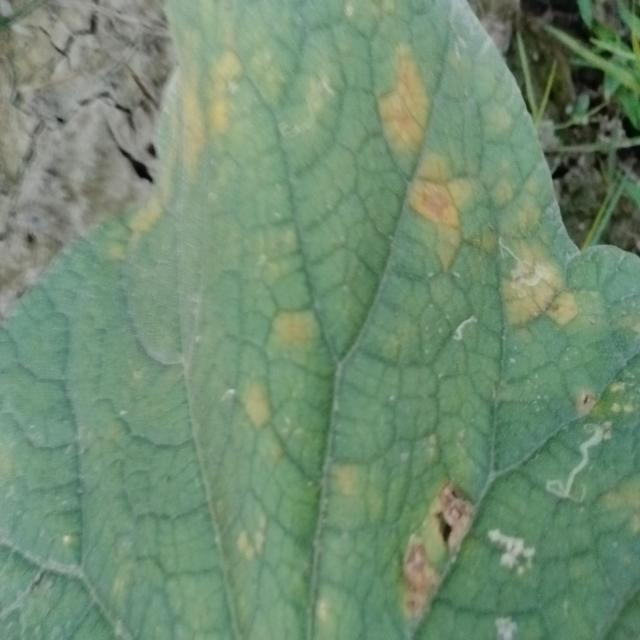cucumber_downy: (73, 0, 634, 640)
